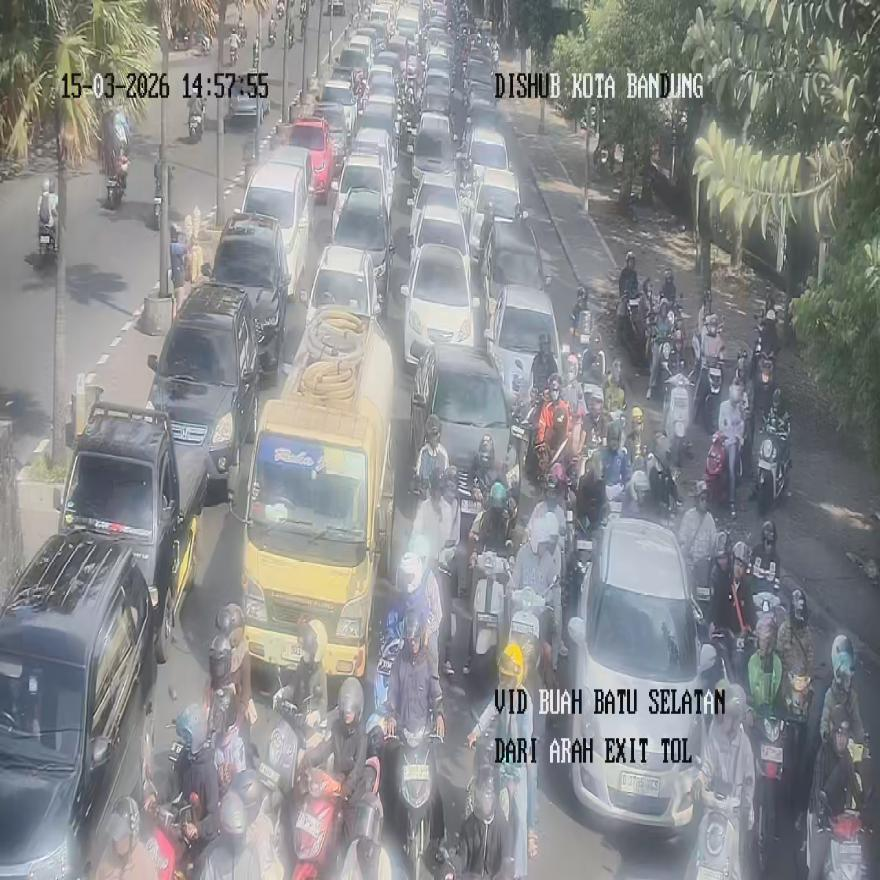Mobil: (0, 533, 159, 879), (567, 519, 716, 831), (58, 402, 208, 662), (146, 282, 261, 488), (410, 342, 519, 513), (207, 213, 292, 373), (399, 243, 478, 365), (241, 160, 313, 292), (486, 284, 560, 402), (333, 188, 395, 309), (300, 244, 377, 321), (482, 221, 550, 298), (470, 169, 520, 247), (291, 117, 336, 202), (270, 144, 315, 219), (410, 203, 469, 257), (467, 126, 509, 172)
Motor: (142, 726, 198, 879), (389, 728, 442, 879), (257, 696, 329, 796), (511, 577, 560, 689), (687, 781, 742, 879), (292, 769, 340, 879), (754, 715, 787, 875), (257, 701, 302, 815), (470, 552, 510, 677), (338, 795, 395, 879), (819, 792, 867, 879), (508, 588, 552, 681), (146, 795, 194, 879), (465, 728, 509, 817), (784, 671, 812, 810), (535, 376, 571, 484), (624, 451, 673, 526), (209, 685, 247, 778), (695, 315, 725, 432), (374, 608, 403, 714), (411, 416, 448, 499), (757, 423, 790, 514), (823, 811, 867, 879), (644, 432, 679, 517), (511, 387, 543, 476), (733, 351, 755, 479), (663, 372, 692, 466), (712, 630, 756, 689), (564, 519, 593, 608), (458, 469, 493, 539), (620, 288, 648, 369), (581, 383, 610, 459), (575, 309, 605, 381), (751, 309, 778, 382), (689, 555, 717, 623), (698, 357, 723, 432), (608, 412, 644, 463), (704, 432, 728, 503), (753, 352, 776, 424), (535, 437, 570, 484), (511, 403, 534, 473), (580, 348, 608, 399), (786, 671, 812, 724), (753, 592, 787, 628), (669, 329, 688, 375), (606, 483, 626, 520), (658, 334, 673, 381), (592, 142, 615, 171), (410, 472, 428, 508), (38, 223, 57, 257), (107, 175, 123, 208), (188, 112, 203, 143), (355, 71, 366, 112), (153, 183, 162, 229), (169, 740, 182, 767), (174, 31, 190, 51), (198, 34, 211, 56), (237, 19, 247, 43), (287, 21, 295, 47), (276, 0, 285, 20), (300, 16, 307, 40), (230, 46, 237, 66), (268, 31, 276, 47), (493, 47, 499, 67)
